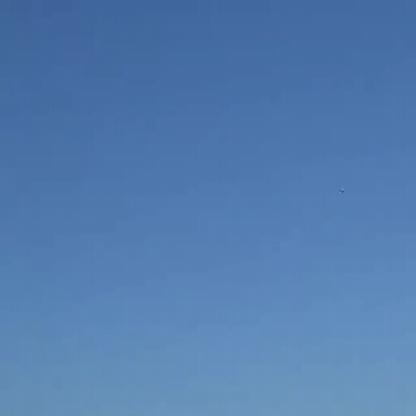CIV_Plane: (336, 182, 350, 196)
